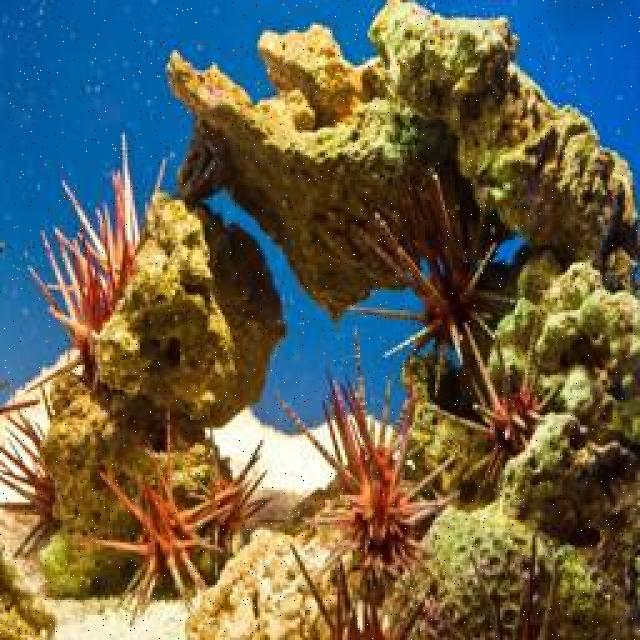reefs: (343, 169, 564, 484), (270, 322, 457, 591), (71, 408, 288, 623), (27, 128, 168, 396), (288, 530, 559, 638), (0, 409, 61, 560)
